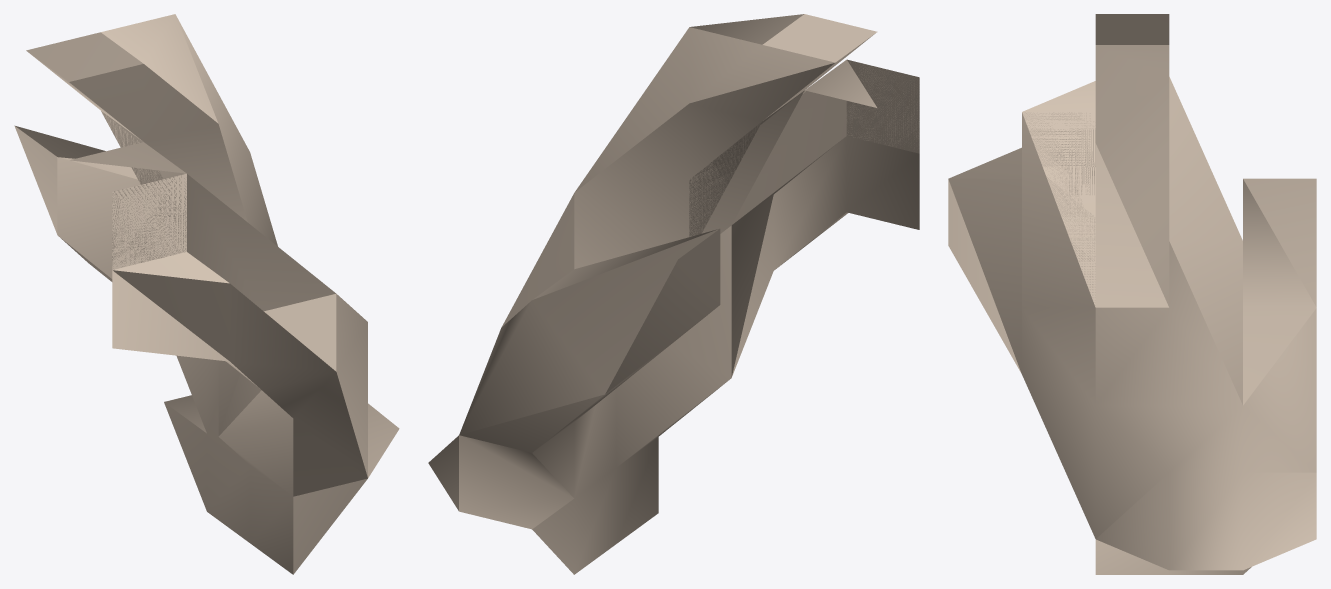
The model's file is m_jet_b72ffeb9.glb.
3 views of the same model, side by side, from view 1: azimuth 30°, elevation 25°; view 2: azimuth 150°, elevation 25°; view 3: azimuth 270°, elevation 25° (orthographic). The views are drawn at different scales.
Visible parts, largest first — view 1: mesh; view 2: mesh; view 3: mesh.
Boxes of the visible parts, <box> form: mesh: <box>14,14,399,574</box>; mesh: <box>428,14,919,574</box>; mesh: <box>948,14,1316,574</box>.
Bounding box in the file's own units: 5 × 7 × 5.
